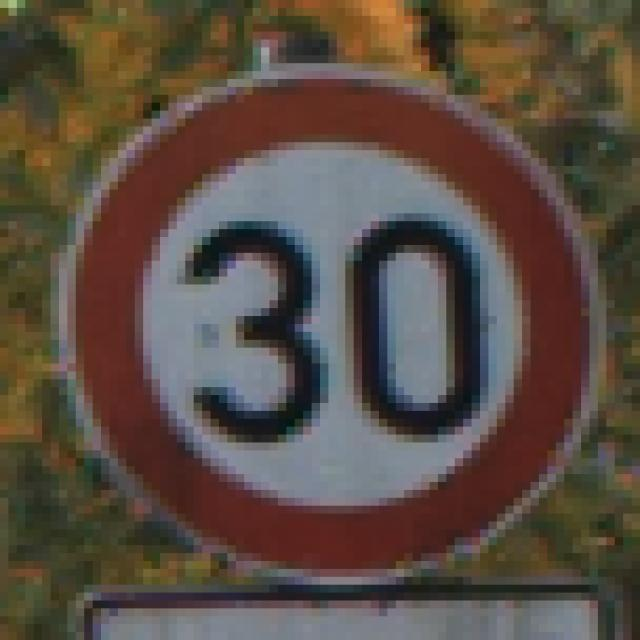Speed Limit -30-: (46, 59, 577, 573)
